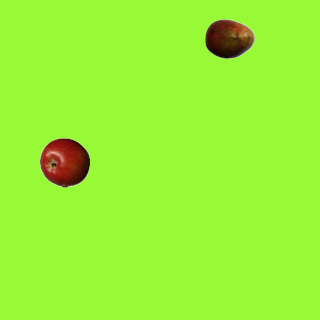Apple Braeburn: (39, 137, 89, 187)
Mango Red: (204, 13, 254, 63)
